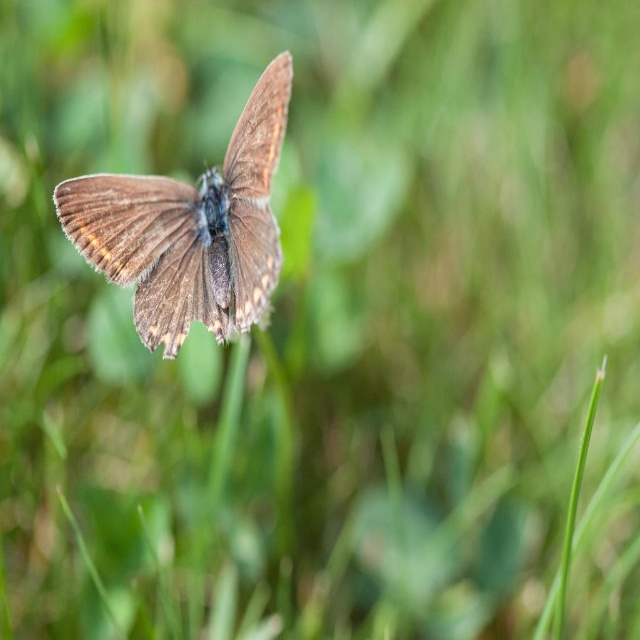Butterfly: (52, 52, 293, 360)
